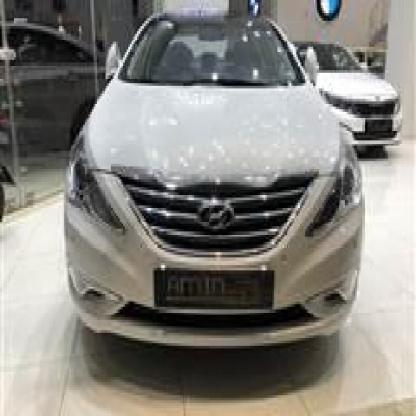Car: (61, 0, 361, 372), (284, 29, 406, 161)
